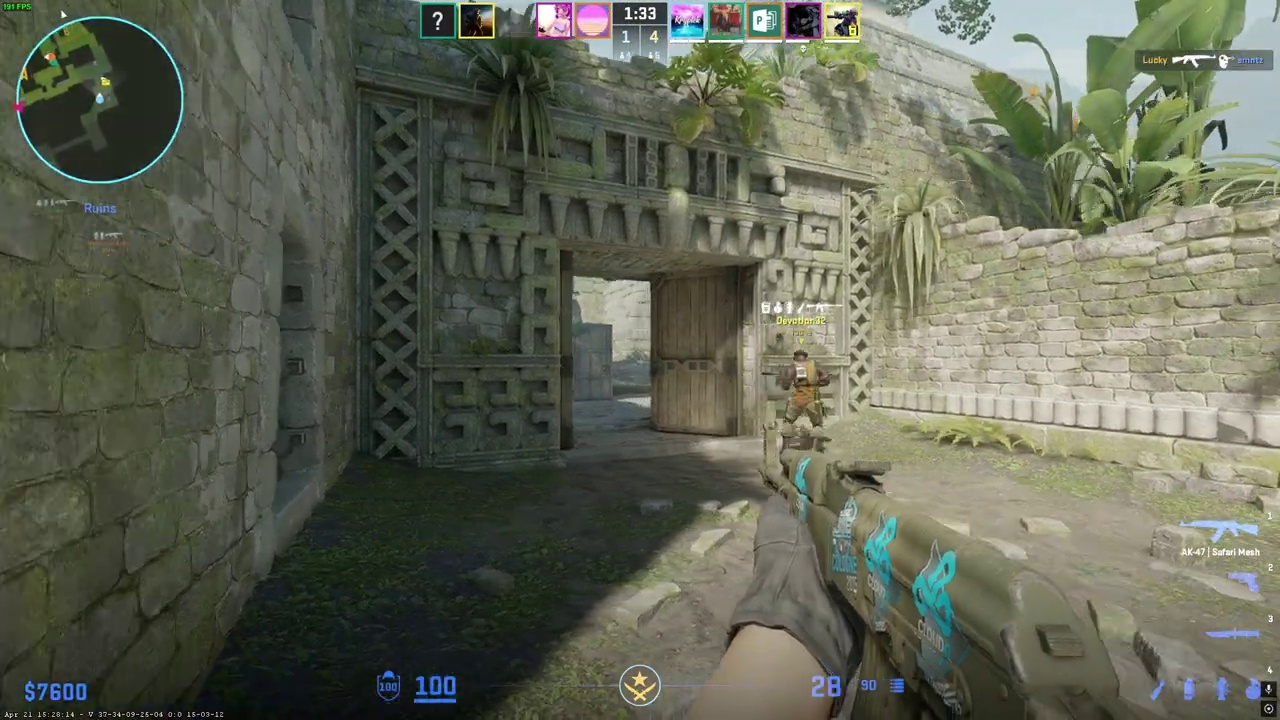Terrorist: (779, 350, 827, 449)
